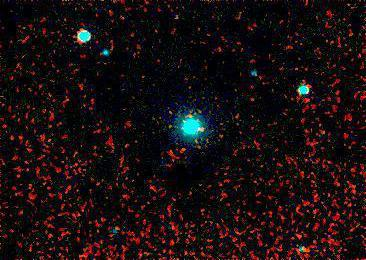star: (188, 116, 218, 146)
